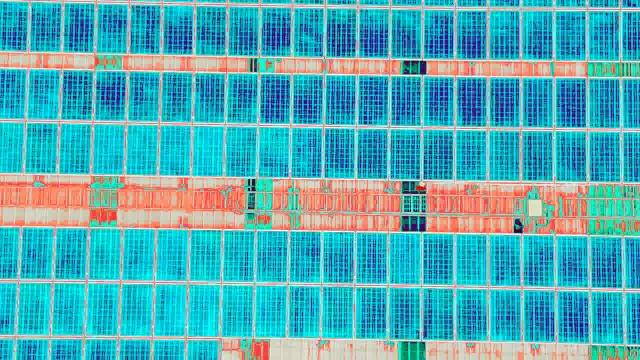dirty: (57, 1, 95, 54), (91, 1, 129, 54), (124, 2, 162, 55), (158, 3, 196, 56), (191, 3, 229, 56), (25, 1, 63, 53), (225, 4, 256, 55), (259, 4, 290, 55), (292, 7, 323, 58), (325, 7, 356, 58), (357, 8, 388, 59), (389, 8, 420, 59), (422, 8, 453, 59), (454, 9, 485, 60), (487, 9, 518, 60), (520, 9, 551, 60), (555, 11, 586, 62), (589, 8, 620, 59), (588, 78, 619, 129), (553, 76, 584, 127), (522, 76, 553, 127), (487, 76, 518, 127), (457, 75, 488, 126), (420, 76, 451, 127), (391, 75, 422, 126), (357, 75, 388, 126), (326, 72, 357, 123), (291, 74, 322, 125), (259, 71, 290, 122), (226, 71, 257, 122), (197, 73, 228, 124), (161, 70, 192, 121), (128, 70, 159, 121), (94, 68, 125, 119), (61, 67, 92, 118), (27, 67, 58, 118), (28, 121, 59, 172), (61, 122, 92, 173), (92, 124, 123, 175), (127, 125, 158, 176), (159, 123, 190, 174), (195, 126, 226, 177), (224, 124, 255, 175), (257, 125, 288, 176), (288, 126, 319, 177), (322, 125, 353, 176), (359, 129, 390, 180), (388, 128, 419, 179), (422, 129, 453, 180), (454, 127, 485, 178), (490, 130, 521, 181), (522, 130, 553, 181), (555, 131, 586, 182), (588, 129, 619, 180), (592, 236, 623, 287), (557, 234, 588, 285), (522, 236, 553, 287), (487, 235, 518, 286), (455, 235, 486, 286), (424, 233, 455, 284), (389, 234, 420, 285), (357, 232, 388, 283), (320, 232, 351, 283), (289, 230, 320, 281), (258, 234, 289, 285), (288, 230, 319, 281), (223, 229, 254, 280), (191, 228, 222, 279), (156, 228, 187, 279), (122, 229, 153, 280), (90, 228, 121, 279), (20, 225, 51, 276), (59, 226, 90, 277), (17, 285, 48, 336), (55, 284, 86, 335), (87, 284, 118, 335), (125, 281, 156, 332), (154, 287, 185, 338), (188, 286, 219, 337), (221, 285, 252, 336), (254, 285, 285, 336), (288, 285, 319, 336), (323, 285, 354, 336), (358, 288, 389, 339), (390, 286, 421, 337), (421, 289, 452, 340), (454, 289, 485, 340), (491, 291, 522, 342), (522, 290, 553, 341), (558, 291, 589, 342), (595, 293, 626, 344)
